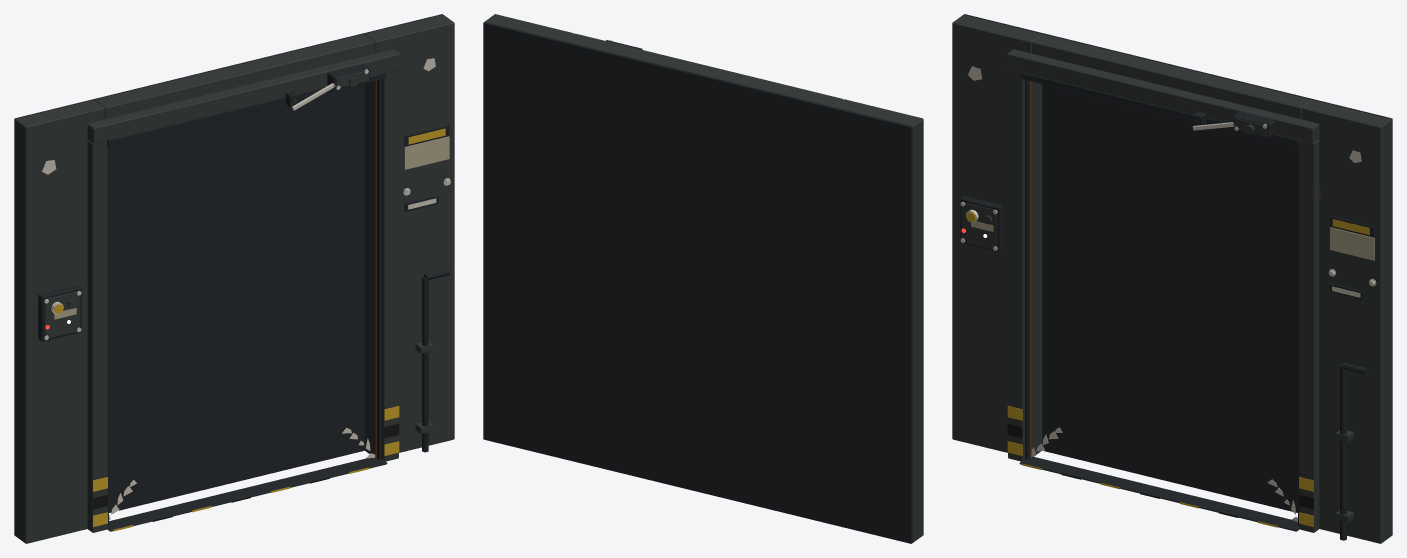
Rendered from airlock_b3_frame.glb.
The picture shows the model from 3 angles, left to right: view 1: azimuth 30°, elevation 25°; view 2: azimuth 150°, elevation 25°; view 3: azimuth 330°, elevation 25°; orthographic projection.
Visible parts, largest first — view 1: airlock_b3_frame; view 2: airlock_b3_frame; view 3: airlock_b3_frame.
Part boxes in pixels (x1=…): airlock_b3_frame: x1=14, y1=14, x2=454, y2=543; airlock_b3_frame: x1=483, y1=14, x2=923, y2=543; airlock_b3_frame: x1=952, y1=14, x2=1392, y2=543.
Bounding box in the file's own units: 2.8 × 2.6 × 0.318.
